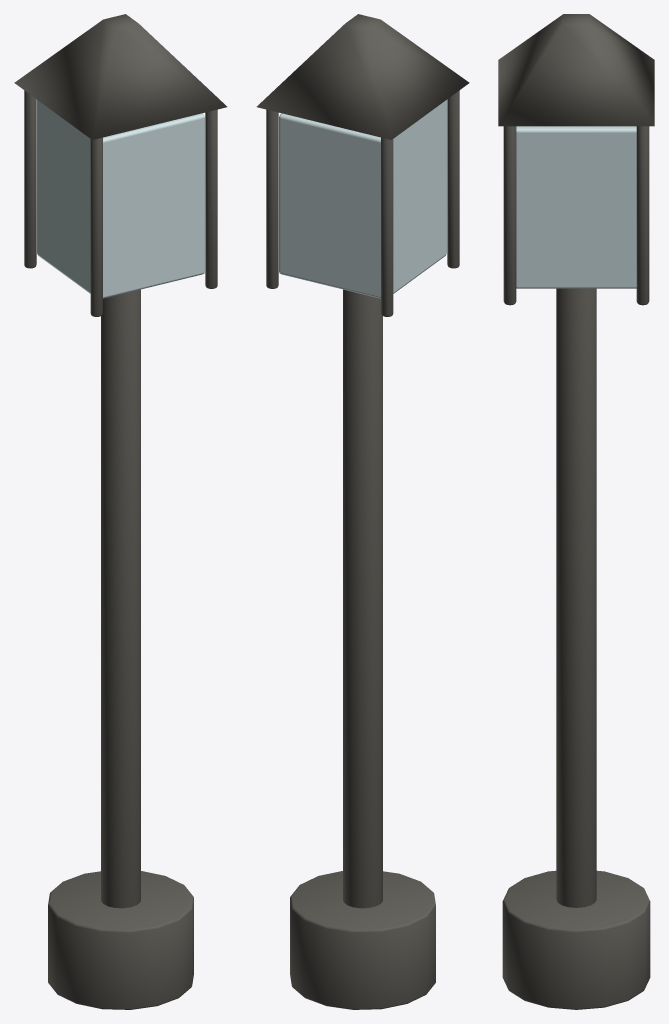
Rendered from Prop_Roadside_Lantern_01_LOD0.fbx.
3 renders of one model, left to right at view 1: azimuth 30°, elevation 25°; view 2: azimuth 150°, elevation 25°; view 3: azimuth 270°, elevation 25°, orthographic.
Parts seen in each view (by area): view 1: Prop_Roadside_Lantern_01_OPT_Merged_RB_Iron_Rough_OPT_DATA, Prop_Roadside_Lantern_01_Glass_OPT; view 2: Prop_Roadside_Lantern_01_OPT_Merged_RB_Iron_Rough_OPT_DATA, Prop_Roadside_Lantern_01_Glass_OPT; view 3: Prop_Roadside_Lantern_01_OPT_Merged_RB_Iron_Rough_OPT_DATA, Prop_Roadside_Lantern_01_Glass_OPT.
Part boxes in pixels (box(x1,y1,x2,y2)): Prop_Roadside_Lantern_01_OPT_Merged_RB_Iron_Rough_OPT_DATA: box(14, 14, 227, 1009); Prop_Roadside_Lantern_01_Glass_OPT: box(37, 100, 204, 298); Prop_Roadside_Lantern_01_OPT_Merged_RB_Iron_Rough_OPT_DATA: box(256, 14, 469, 1009); Prop_Roadside_Lantern_01_Glass_OPT: box(279, 100, 446, 298); Prop_Roadside_Lantern_01_OPT_Merged_RB_Iron_Rough_OPT_DATA: box(498, 14, 654, 1009); Prop_Roadside_Lantern_01_Glass_OPT: box(516, 126, 636, 288).
Size of the model in its own units: 42.43 by 287 by 42.43.
